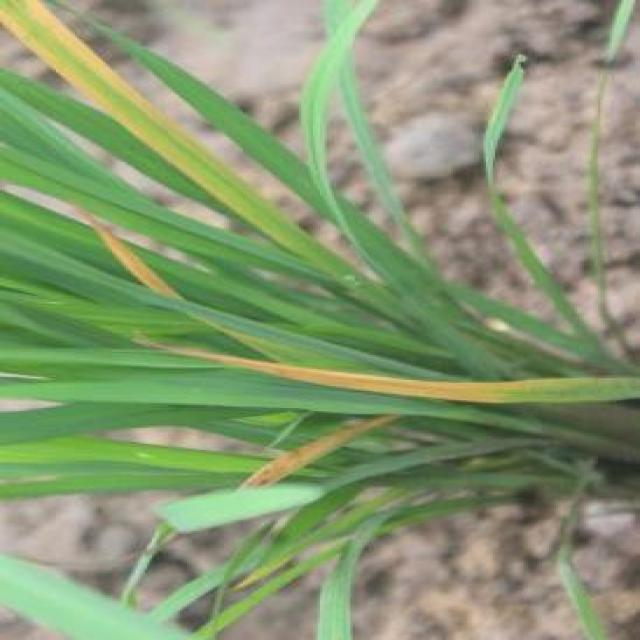Tungro: (7, 3, 202, 148), (213, 337, 568, 413), (215, 420, 383, 494), (68, 210, 191, 292)
